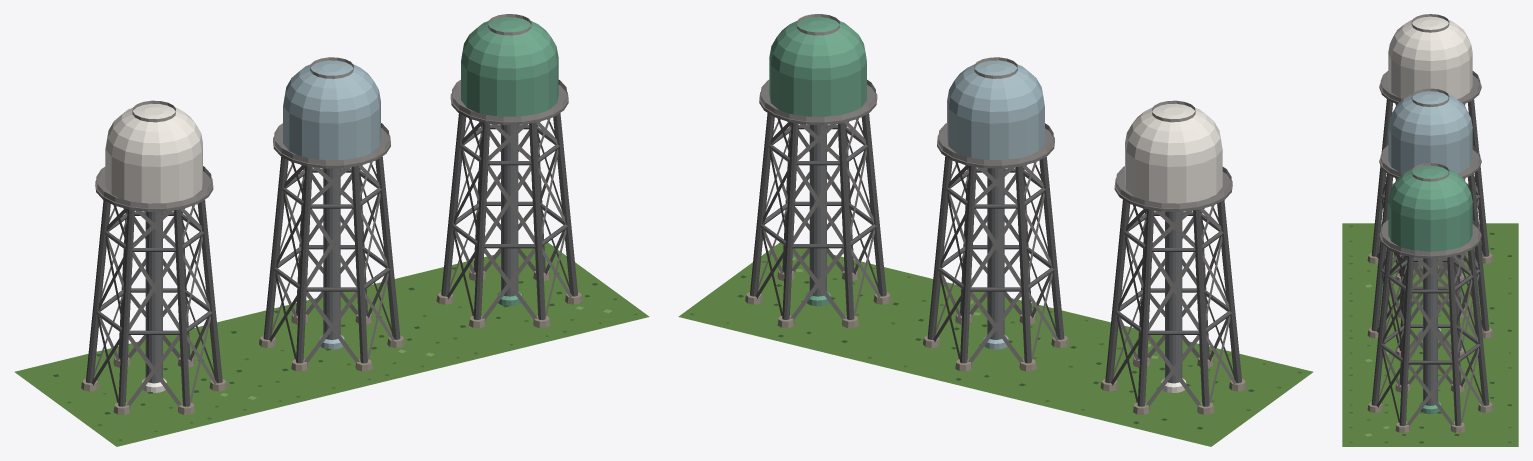
Rendered from WaterTowers.fbx.
The picture shows the model from 3 angles, left to right: view 1: azimuth 30°, elevation 25°; view 2: azimuth 150°, elevation 25°; view 3: azimuth 270°, elevation 25°; orthographic projection. The views are drawn at different scales.
Parts seen in each view (by area): view 1: water_tower_2, water_tower_1, water_tower_3; view 2: water_tower_2, water_tower_1, water_tower_3; view 3: water_tower_1, water_tower_3, water_tower_2.
Part boxes in pixels (bbox=[...]): water_tower_2: bbox=[14, 100, 293, 446]; water_tower_1: bbox=[370, 14, 649, 360]; water_tower_3: bbox=[193, 57, 471, 403]; water_tower_2: bbox=[1034, 100, 1313, 446]; water_tower_1: bbox=[678, 14, 957, 360]; water_tower_3: bbox=[856, 57, 1134, 403]; water_tower_1: bbox=[1342, 163, 1518, 446]; water_tower_3: bbox=[1342, 88, 1518, 372]; water_tower_2: bbox=[1342, 14, 1518, 297].
Size of the model in its own units: 600 by 303 by 200.
